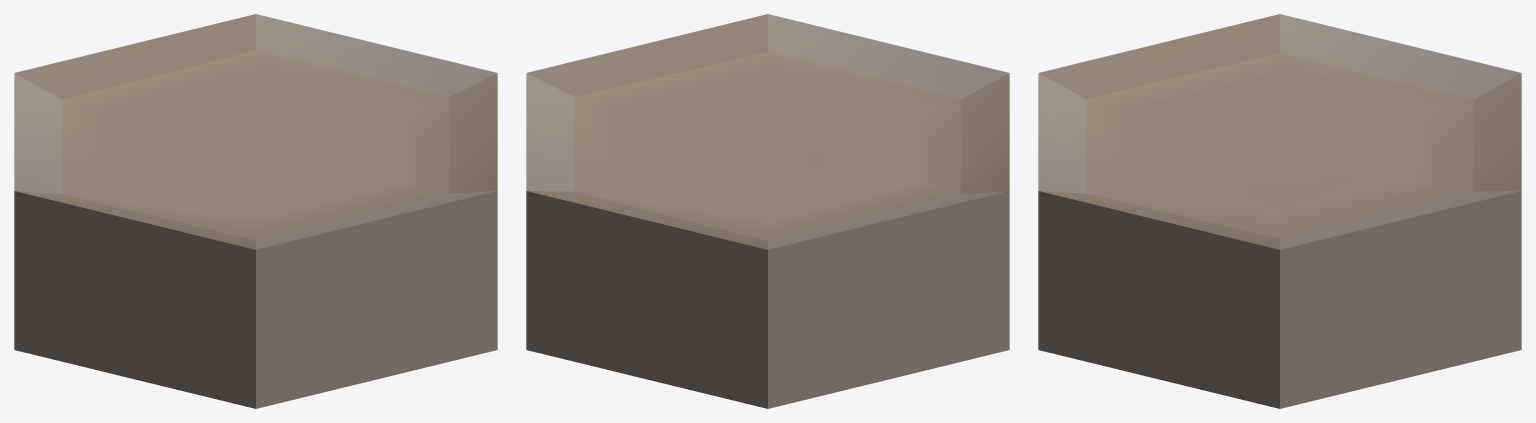
Rendered from dirtHex.fbx.
3 renders of one model, left to right at view 1: azimuth 30°, elevation 25°; view 2: azimuth 150°, elevation 25°; view 3: azimuth 270°, elevation 25°, orthographic.
Visible parts, largest first — view 1: pCylinder1; view 2: pCylinder1; view 3: pCylinder1.
Boxes of the visible parts, bbox=[...] form: pCylinder1: bbox=[14, 14, 497, 408]; pCylinder1: bbox=[526, 14, 1009, 408]; pCylinder1: bbox=[1038, 14, 1521, 408].
Size of the model in its own units: 2 by 0.6289 by 1.73.
